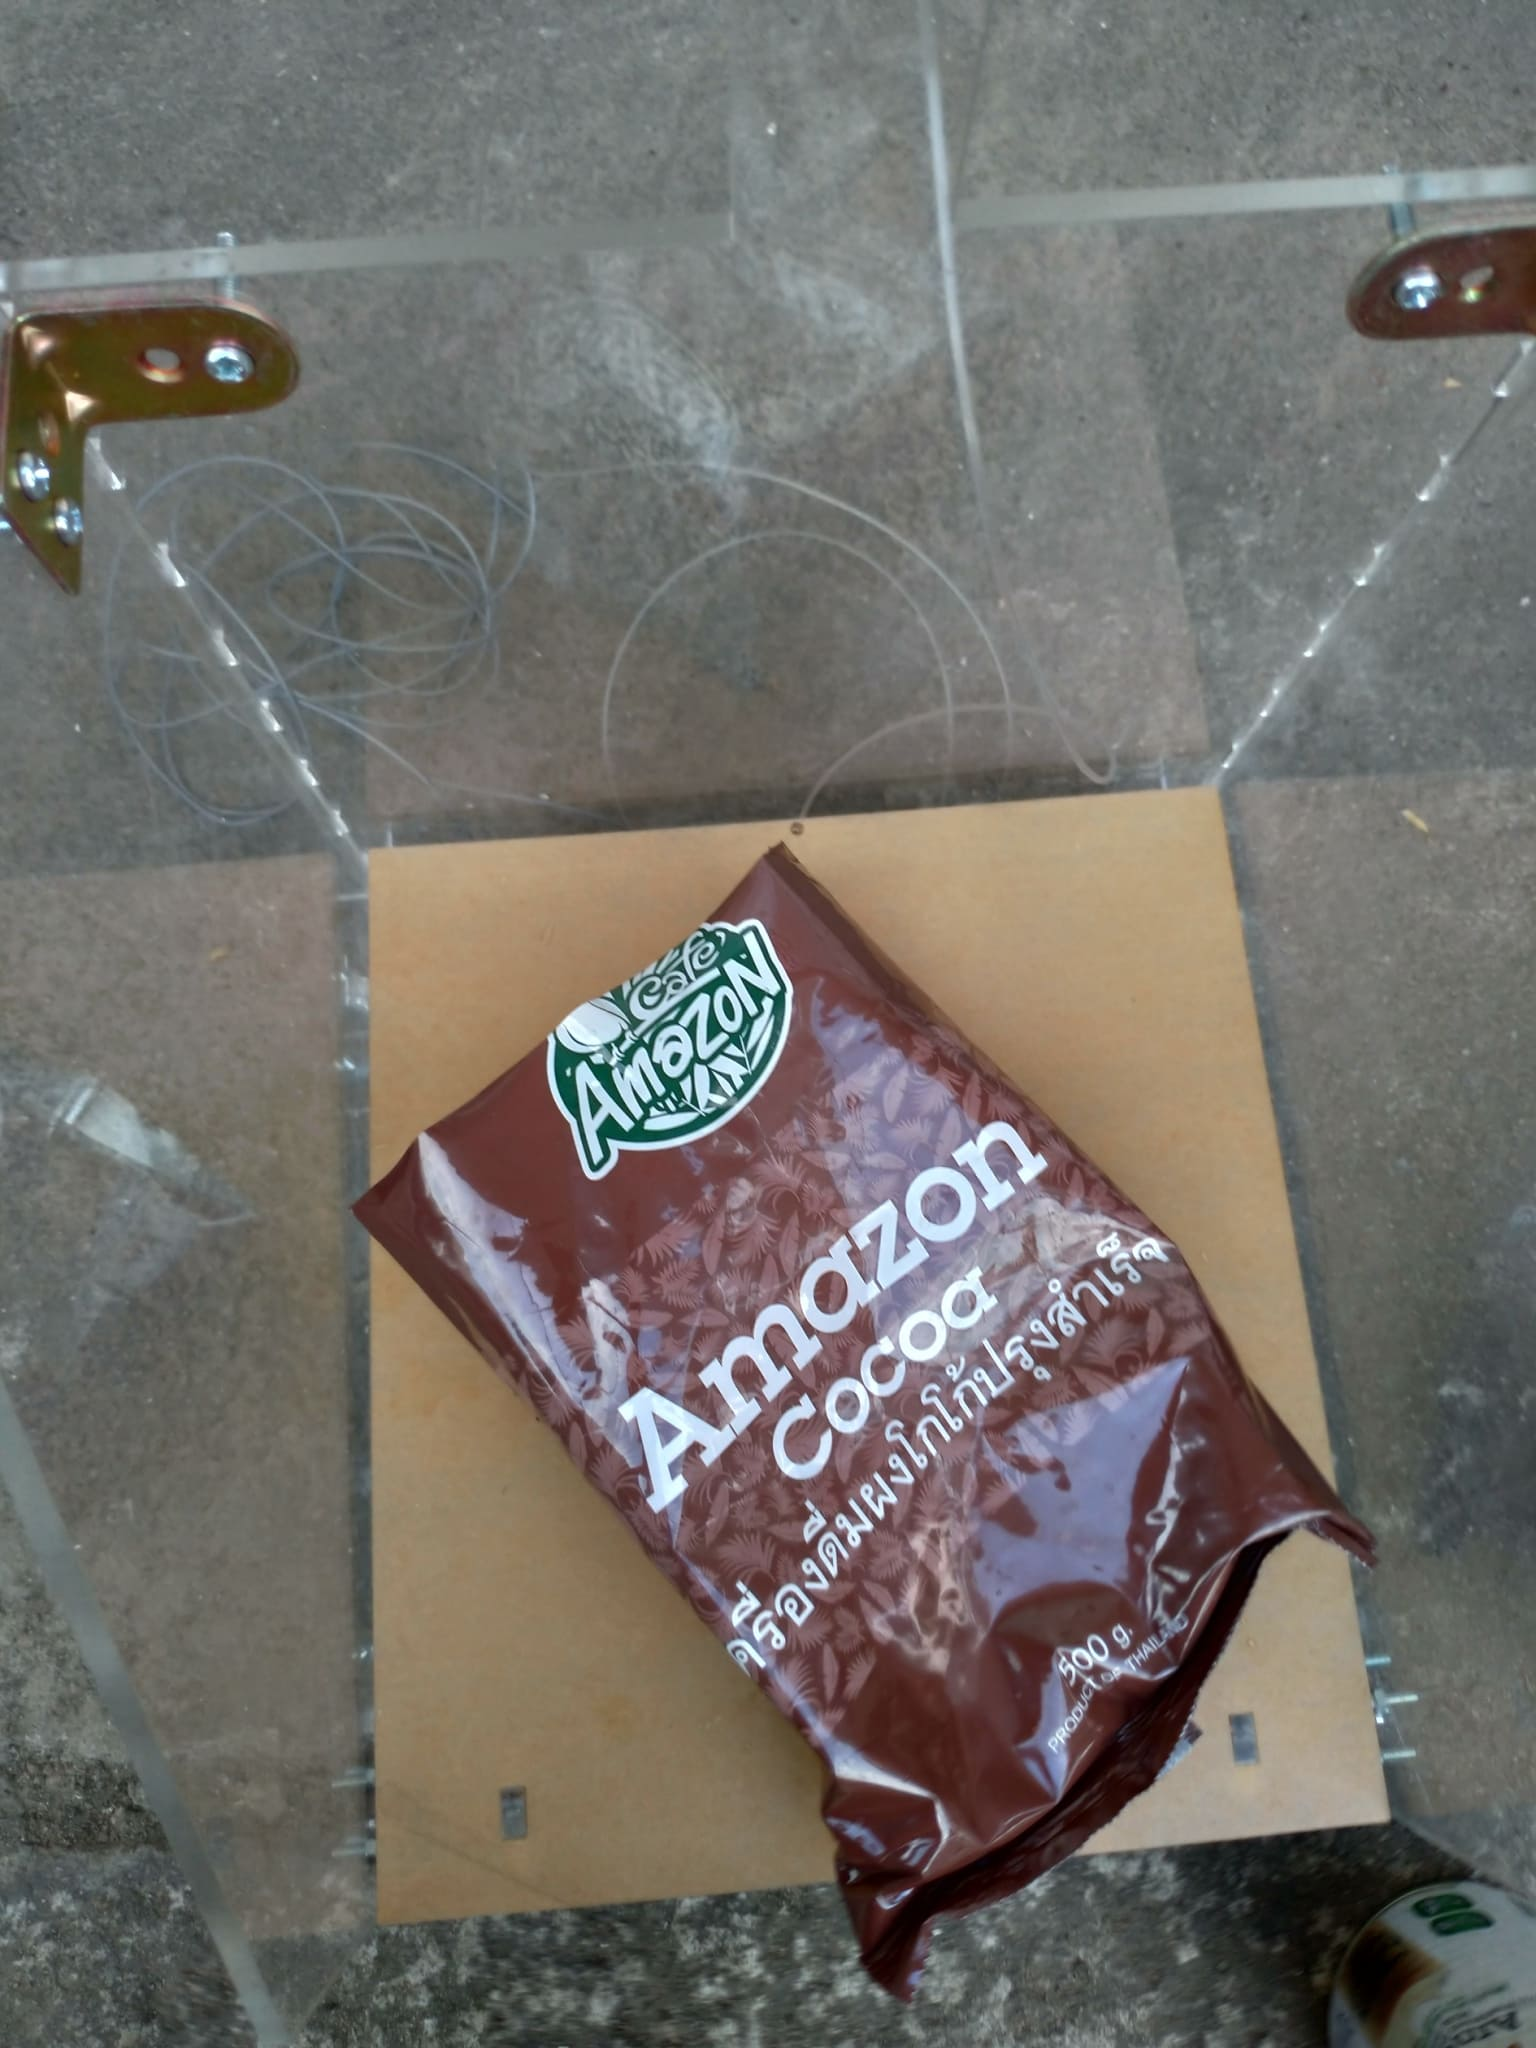Others: (353, 858, 1383, 1972)
